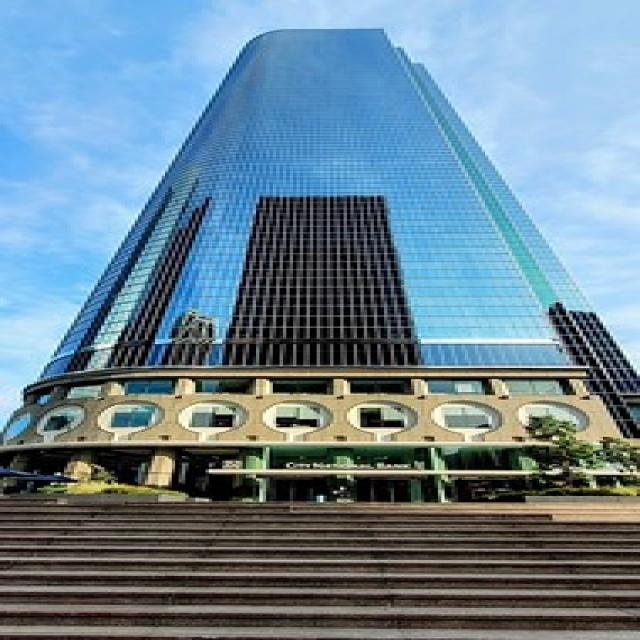Normal_building: (14, 8, 634, 506)
